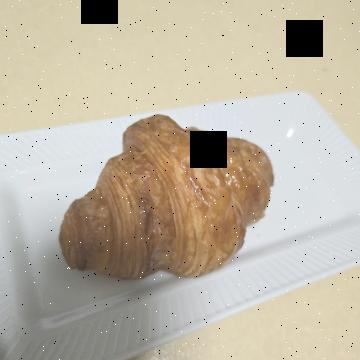croissant: (86, 77, 273, 311)
